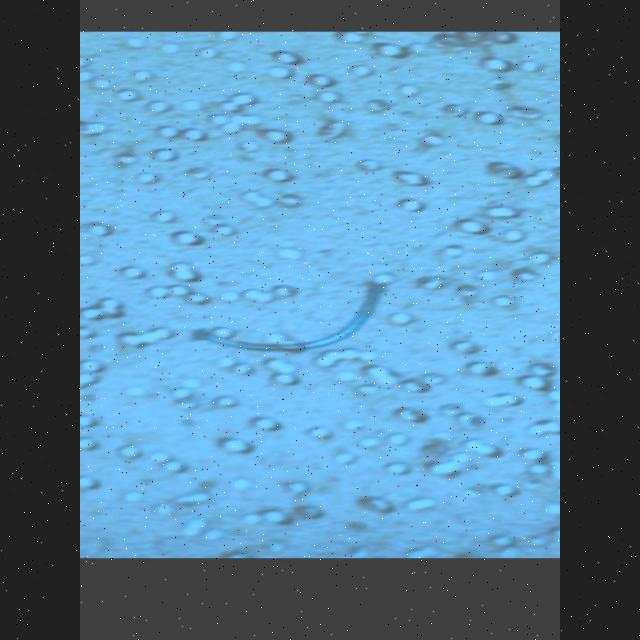Fibre: (188, 274, 402, 352)
